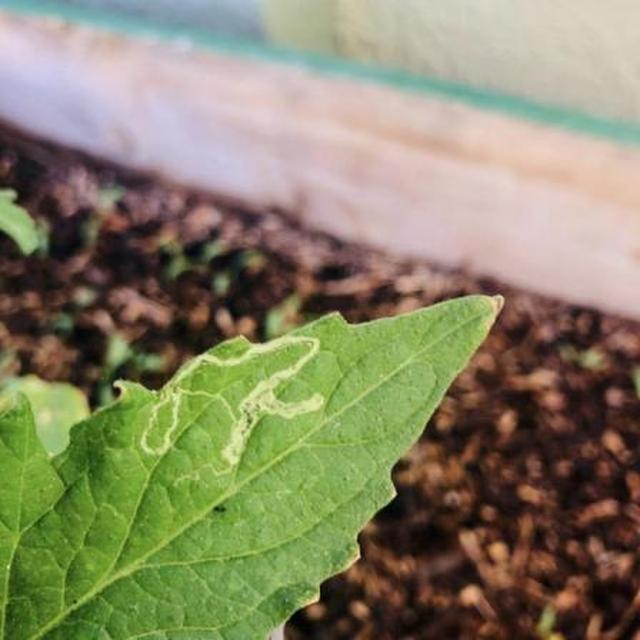Leaf Miner: (45, 389, 640, 640)
